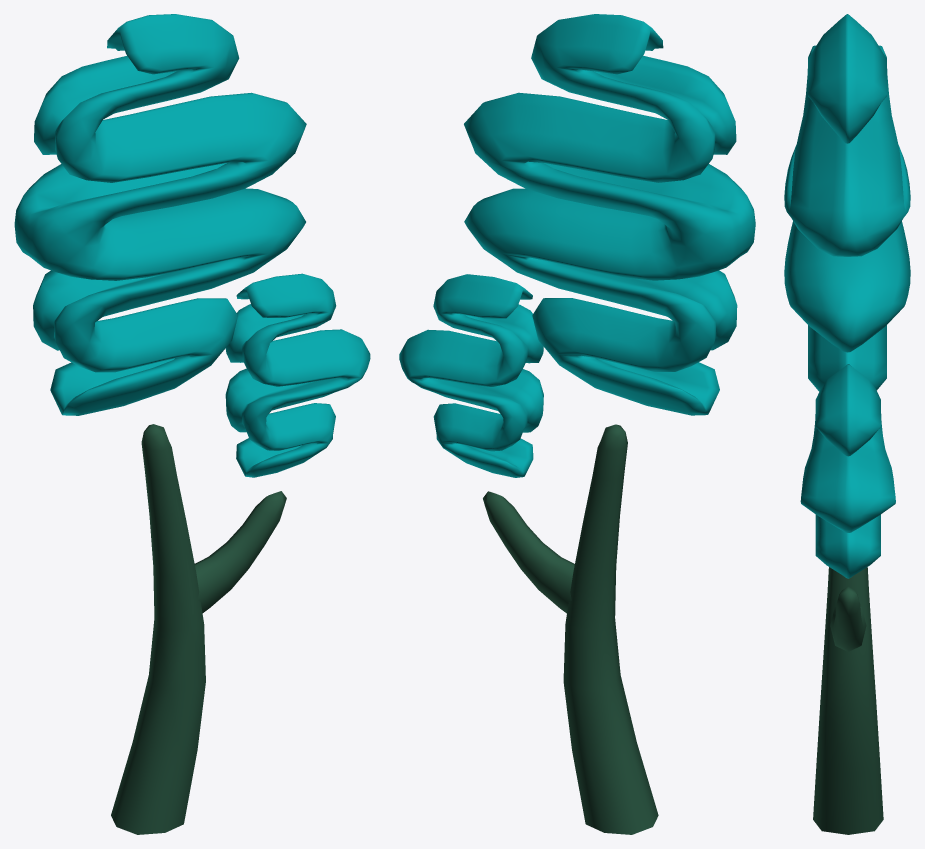
File: Tree Floating 2.glb
3 views of the same model, side by side, from view 1: azimuth 30°, elevation 25°; view 2: azimuth 150°, elevation 25°; view 3: azimuth 270°, elevation 25° (orthographic).
Parts seen in each view (by area): view 1: Tree_Floating_2; view 2: Tree_Floating_2; view 3: Tree_Floating_2.
Boxes of the visible parts, <box> form: Tree_Floating_2: <box>14,14,370,834</box>; Tree_Floating_2: <box>399,14,755,834</box>; Tree_Floating_2: <box>784,14,910,834</box>.
Bounding box in the file's own units: 2.63 × 5.87 × 0.843.
Materials: 1 (1 with a texture image).
